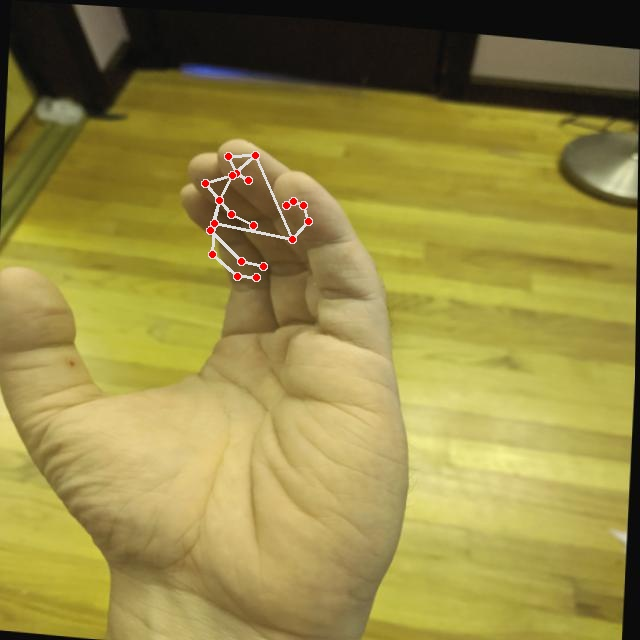C: (0, 109, 439, 639)
